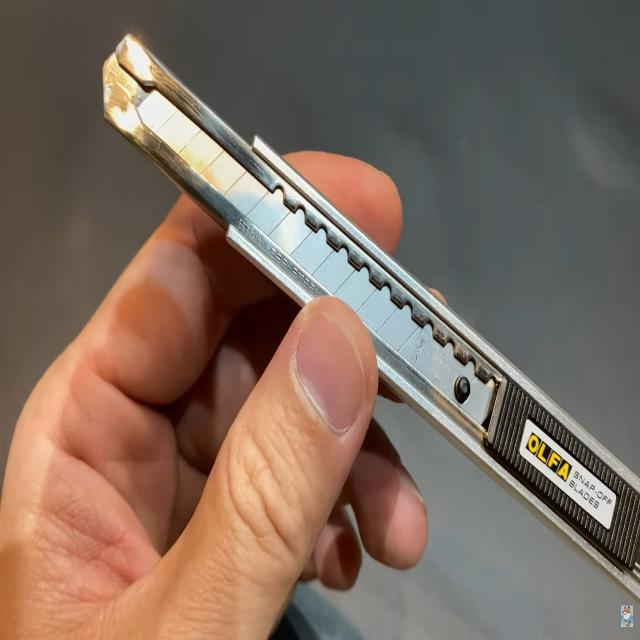cutter: (93, 31, 640, 598)
